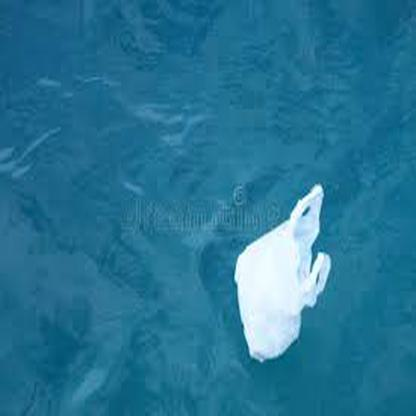plastic bag: (232, 181, 332, 361)
